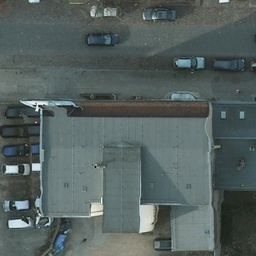car: (85, 30, 120, 47), (89, 3, 122, 19), (143, 7, 177, 22), (175, 54, 205, 70), (1, 122, 29, 137), (1, 198, 29, 213), (213, 58, 244, 71), (1, 164, 33, 176), (1, 144, 27, 156), (215, 1, 232, 6), (235, 1, 249, 6), (26, 1, 43, 5)
van: (1, 1, 6, 9)
